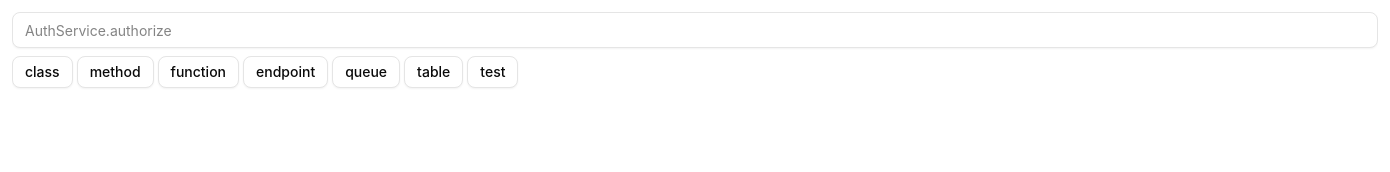
Test: graph explorer search › engine unavailable shows a retry
The image size is (1390, 172).
Type "x" into the search field named "Search symbols".
click(695, 30); type("x")  # box [12,12,1378,48]
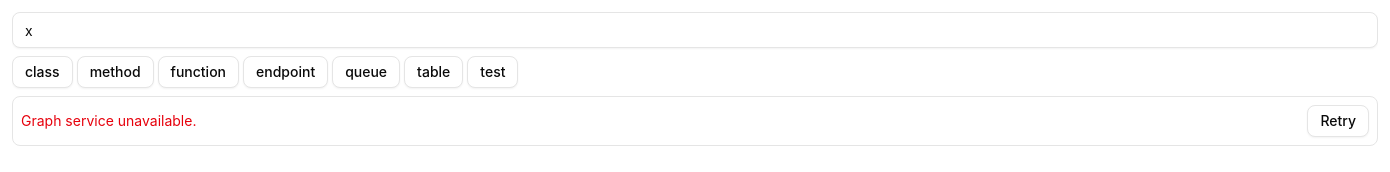
Check: the text "Graph service unavailable." is shown, box [21,111,196,131]
Check: the button "Retry" is shown, box [1307,105,1369,137]
